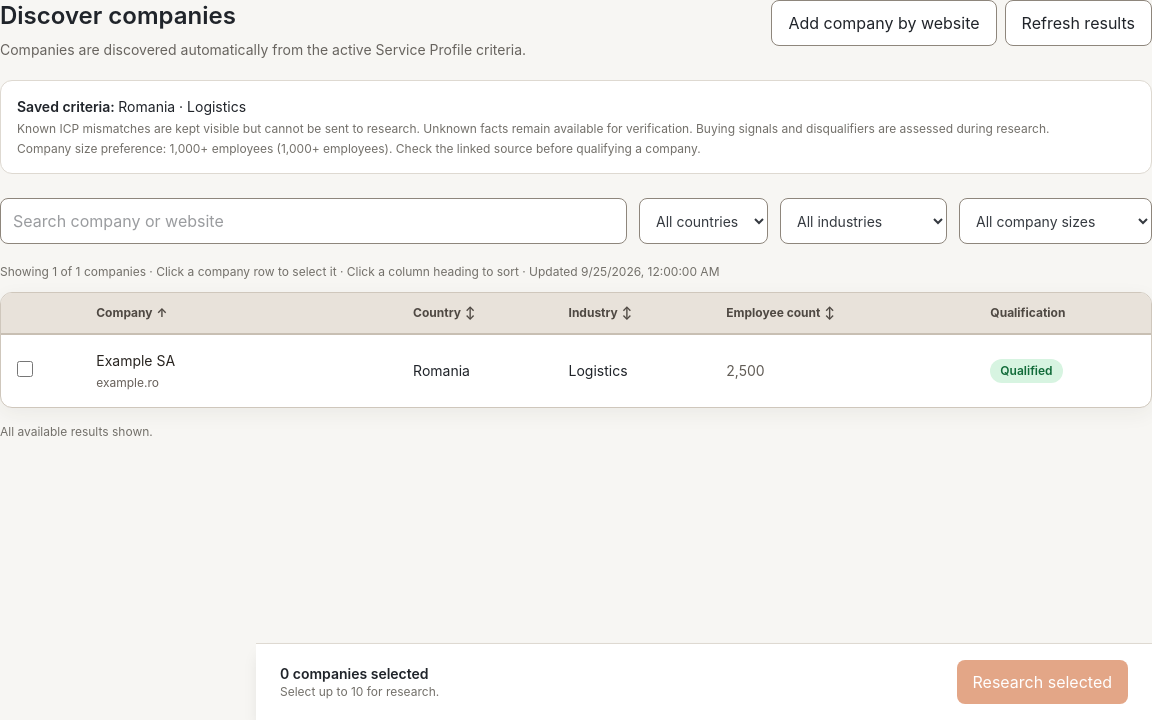
Test: automatically uses the saved profile and queues selected research
Expected: the button "Example SA" is shown, top-left (96, 351), bottom-right (175, 371)
Expected: the text "2,500" is shown, top-left (710, 334), bottom-right (974, 407)
Click the checkbox named "Select Example SA".
click(25, 368)  # box top-left (17, 360), bottom-right (33, 376)
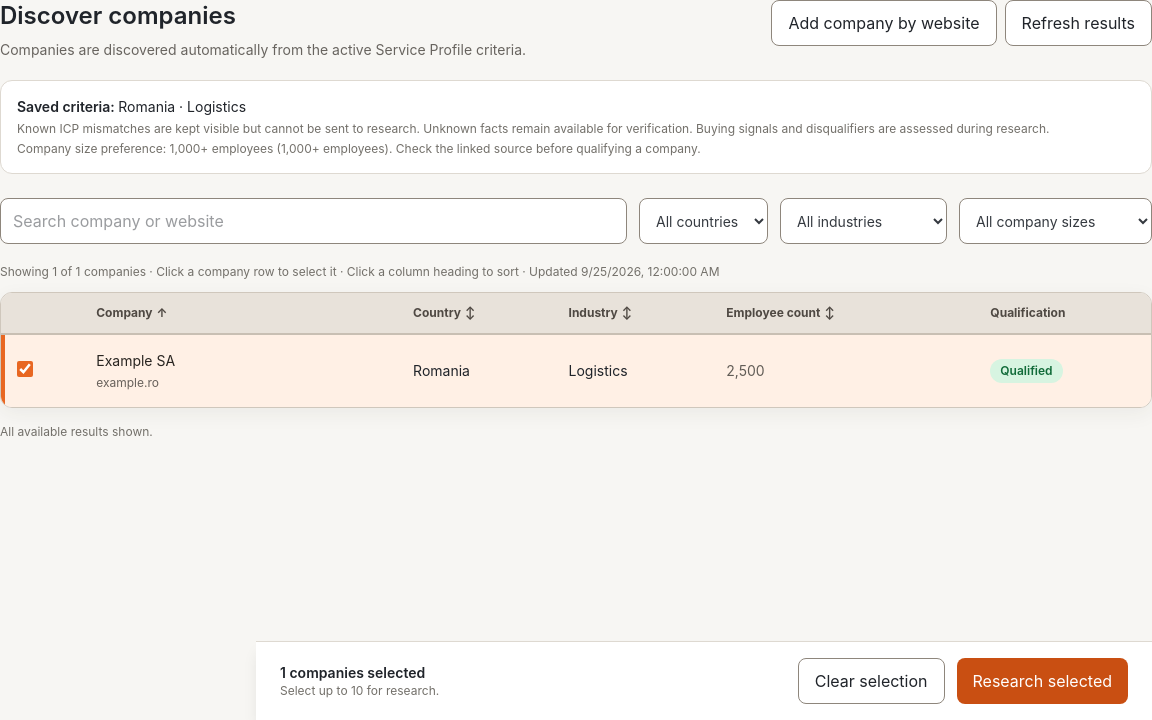
Click the button "Research selected".
click(1042, 681)  # box top-left (956, 658), bottom-right (1128, 704)
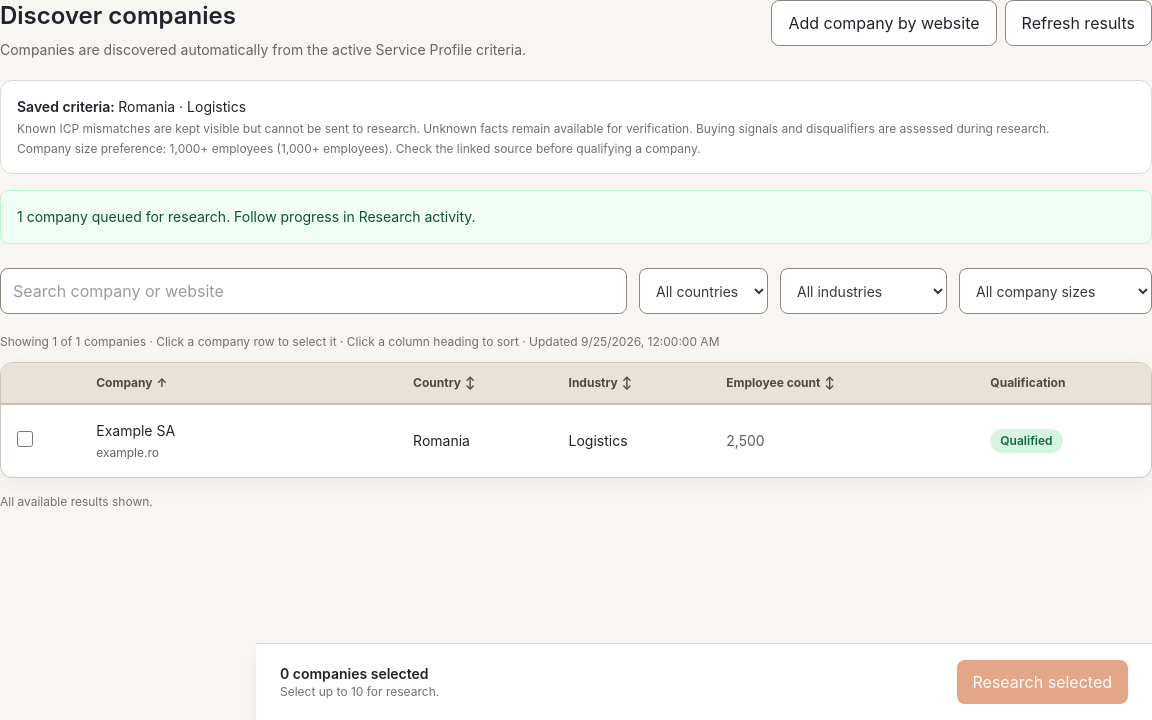
Now the text "1 company queued for research. Follow progress in Research activity." is shown, box top-left (0, 190), bottom-right (1151, 244)
